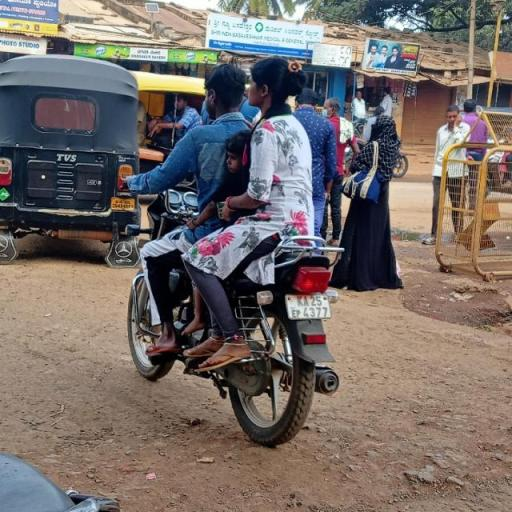bike: (108, 52, 362, 447)
numberplate: (287, 294, 334, 320)
withouthelmet: (251, 59, 301, 109), (206, 66, 245, 117)
